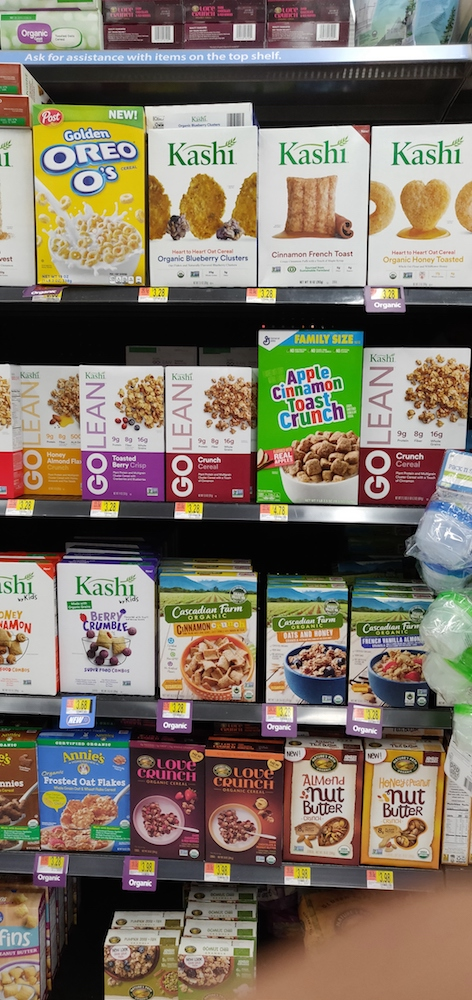Oreo Golden-568301011: (27, 103, 148, 288)
